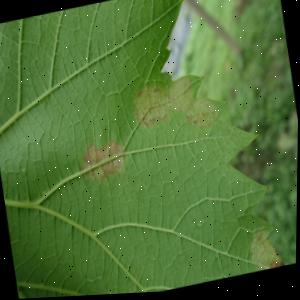Folha: (0, 0, 287, 300)
Fungo: (129, 75, 192, 125), (75, 136, 127, 188), (244, 225, 286, 275), (181, 92, 219, 132)
